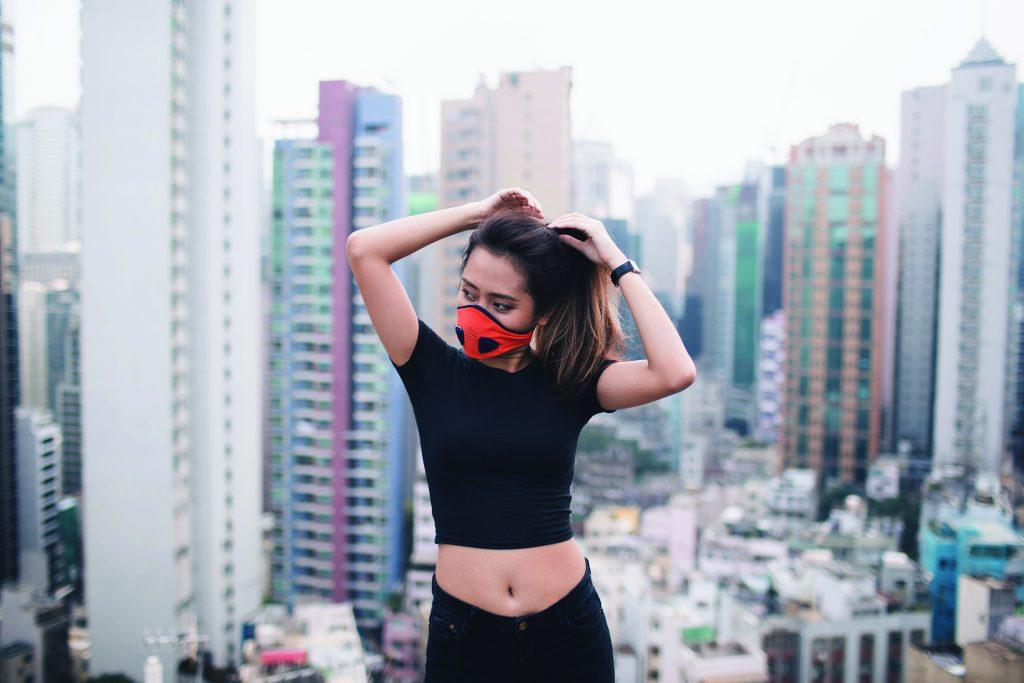Wearing Mask: (368, 170, 682, 406)
